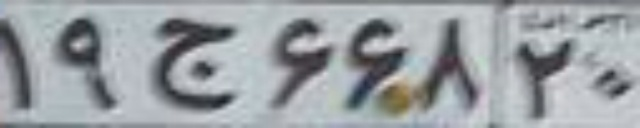0: (592, 67, 636, 101)
1: (0, 14, 39, 109)
2: (512, 37, 573, 119)
6: (339, 17, 408, 112), (267, 18, 333, 109)
8: (419, 16, 480, 111)
9: (55, 16, 117, 111)
jim: (152, 16, 244, 109)
